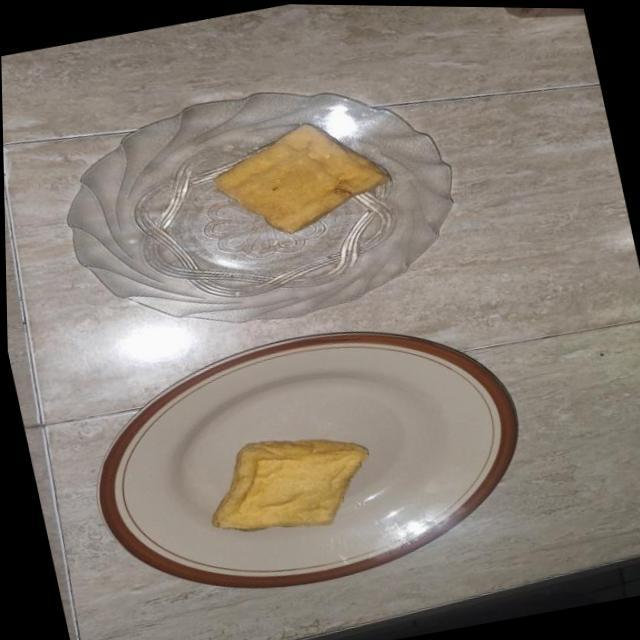tahu_goreng: (214, 124, 388, 233), (212, 440, 368, 531)
